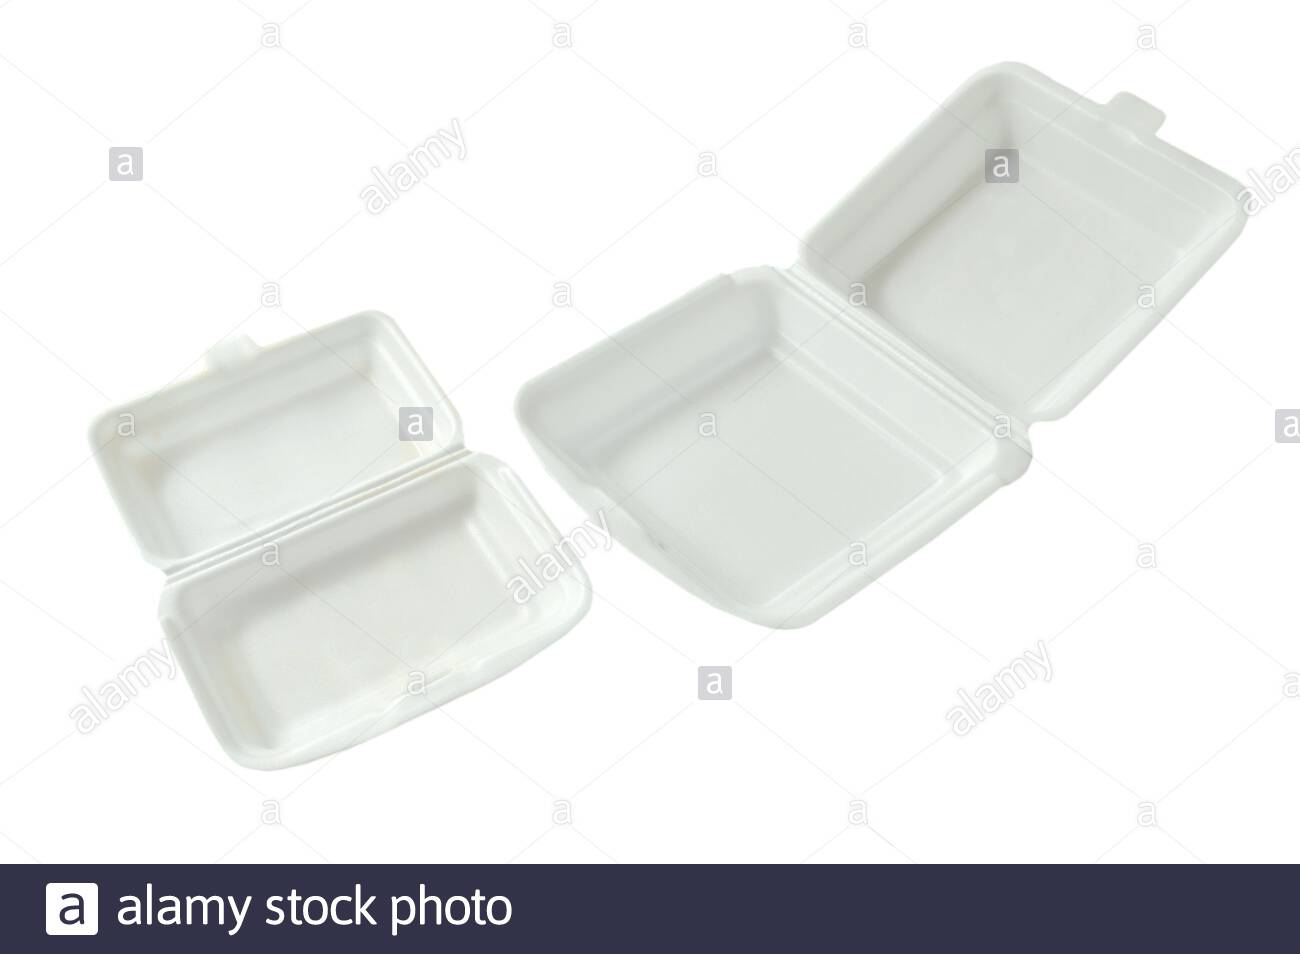Foam Box: (503, 52, 1262, 634)
